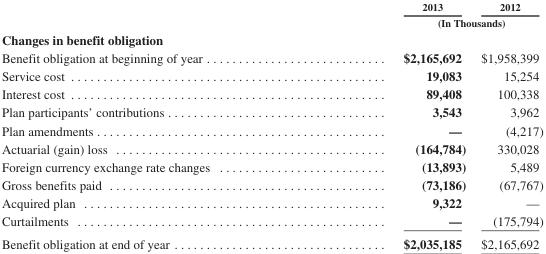table: (0, 0, 542, 251)
table column: (0, 0, 306, 251), (306, 0, 472, 251), (472, 0, 542, 251)
table column header: (0, 0, 542, 30)
table projected row header: (0, 30, 542, 48)
table row: (0, 211, 542, 231), (0, 231, 542, 251), (0, 138, 542, 157), (0, 30, 542, 48), (0, 48, 542, 66), (0, 66, 542, 84), (0, 84, 542, 102), (0, 102, 542, 120), (0, 120, 542, 138), (0, 157, 542, 175), (0, 175, 542, 193), (0, 193, 542, 211), (0, 14, 542, 30), (0, 0, 542, 14)
table spanning cell: (306, 14, 542, 30)
